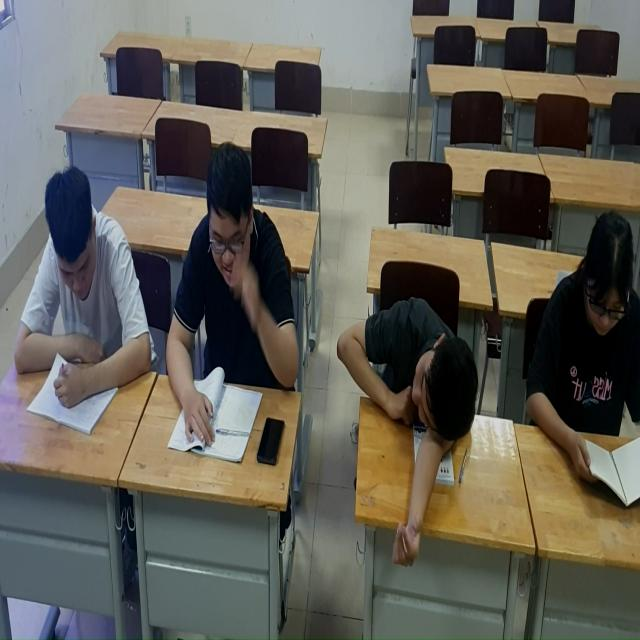raise_hand: (169, 135, 297, 454)
read: (7, 156, 158, 438), (514, 204, 640, 502)
sleep: (347, 279, 482, 609)
